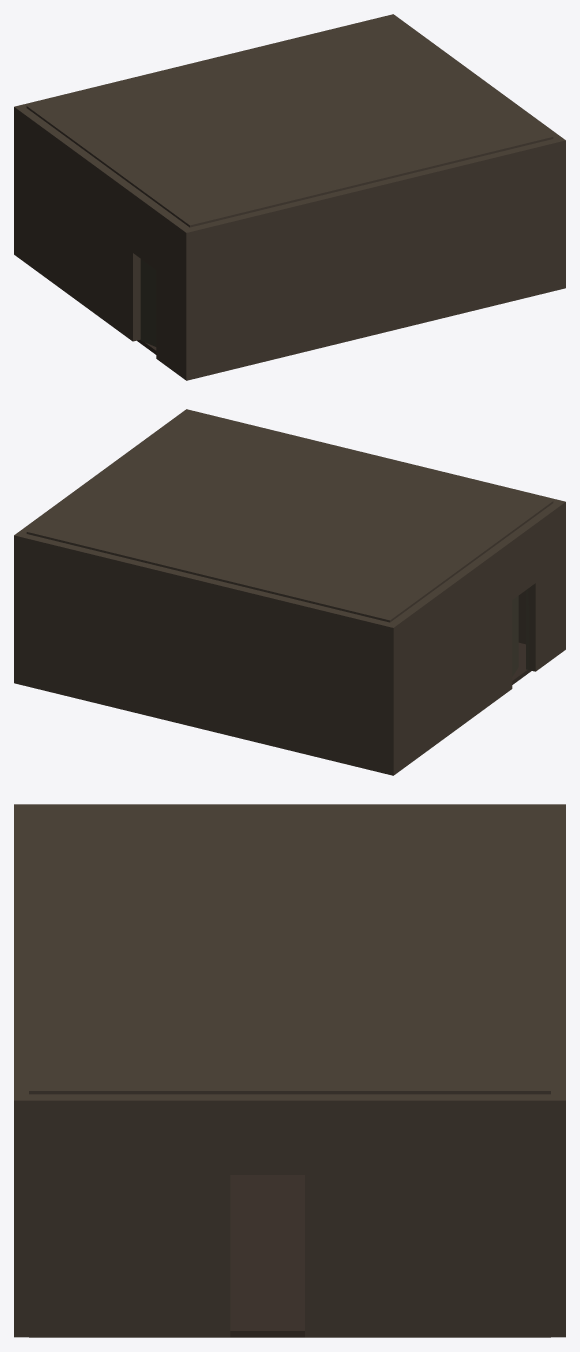
The picture shows the model from 3 angles, top to bottom: view 1: azimuth 30°, elevation 25°; view 2: azimuth 150°, elevation 25°; view 3: azimuth 270°, elevation 25°; orthographic projection. The views are drawn at different scales.
Parts seen in each view (by area): view 1: Z3_Ceiling, Z3_Wall_S, Z3_Wall_W_N, Z3_Wall_W_S, Z3_Wall_N, Z3_Wall_W_Lintel, Z3_KitchenDoor_Leaf, Z3_Wall_E_N; view 2: Z3_Ceiling, Z3_Wall_N, Z3_Wall_W_N, Z3_Wall_W_S, Z3_Wall_S, Z3_Wall_W_Lintel, Z3_KitchenDoor_Leaf, Z3_Wall_E_N; view 3: Z3_Ceiling, Z3_Wall_E_N, Z3_Wall_E_S, Z3_Floor, Z3_Wall_S, Z3_Wall_N, Z3_Wall_E_Lintel, Z3_Wall_W_N.
Part boxes in pixels (x1,y1,x2,y2): Z3_Ceiling: (26,17,553,227); Z3_Wall_S: (181,137,565,380); Z3_Wall_W_N: (18,108,140,341); Z3_Wall_W_S: (156,209,189,376); Z3_Wall_N: (14,14,397,257); Z3_Wall_W_Lintel: (133,192,163,269); Z3_KitchenDoor_Leaf: (140,259,156,346); Z3_Wall_E_N: (393,17,474,75); Z3_Ceiling: (26,412,553,622); Z3_Wall_N: (14,532,398,775); Z3_Wall_W_N: (390,539,512,771); Z3_Wall_W_S: (527,503,561,671); Z3_Wall_S: (182,409,565,652); Z3_Wall_W_Lintel: (505,522,535,599); Z3_KitchenDoor_Leaf: (512,596,518,676); Z3_Wall_E_N: (19,475,100,533); Z3_Ceiling: (29,807,550,1094); Z3_Wall_E_N: (305,1094,550,1337); Z3_Wall_E_S: (29,1094,230,1337); Z3_Floor: (29,1175,550,1337); Z3_Wall_S: (14,804,28,1337); Z3_Wall_N: (551,804,565,1337); Z3_Wall_E_Lintel: (230,1094,304,1174); Z3_Wall_W_N: (185,804,550,807).
Bounding box in the file's own units: 9.4 × 3.65 × 7.4.
